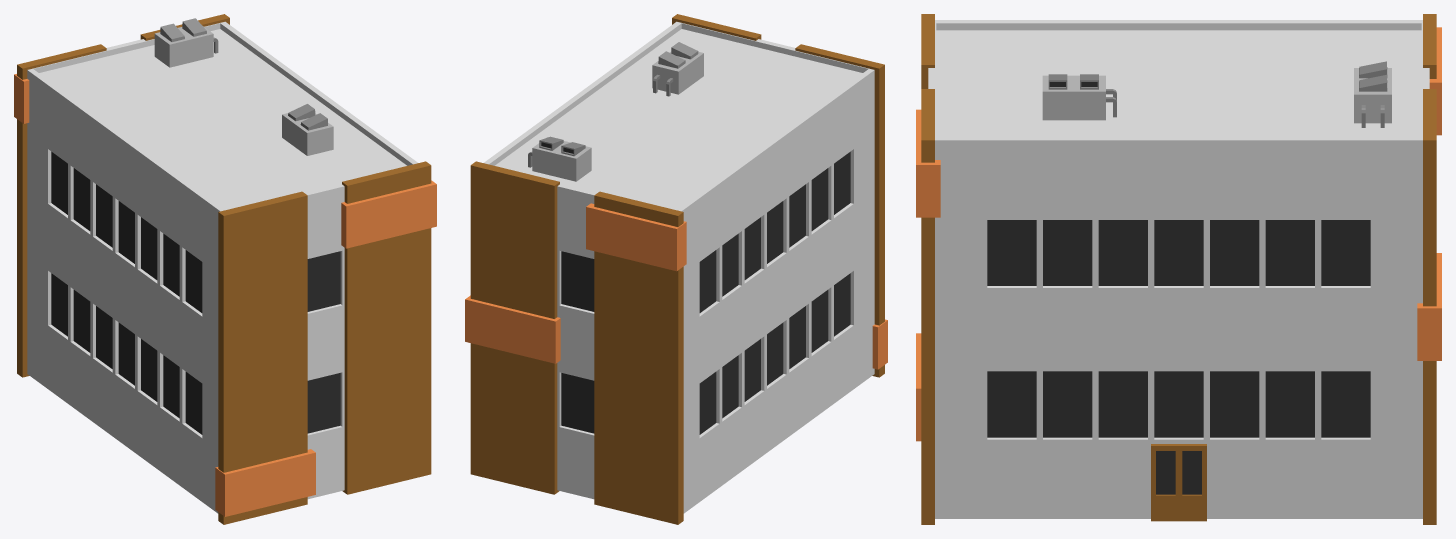
The model's file is flat_05.fbx.
3 renders of one model, left to right at view 1: azimuth 30°, elevation 25°; view 2: azimuth 150°, elevation 25°; view 3: azimuth 270°, elevation 25°, orthographic. The views are drawn at different scales.
Parts seen in each view (by area): view 1: flat_05; view 2: flat_05; view 3: flat_05.
Boxes of the visible parts, x1,y1,x2,y2 form: flat_05: (14,14,436,524); flat_05: (465,14,887,524); flat_05: (916,14,1441,524).
Size of the model in its own units: 9.62 by 14.38 by 16.61.
